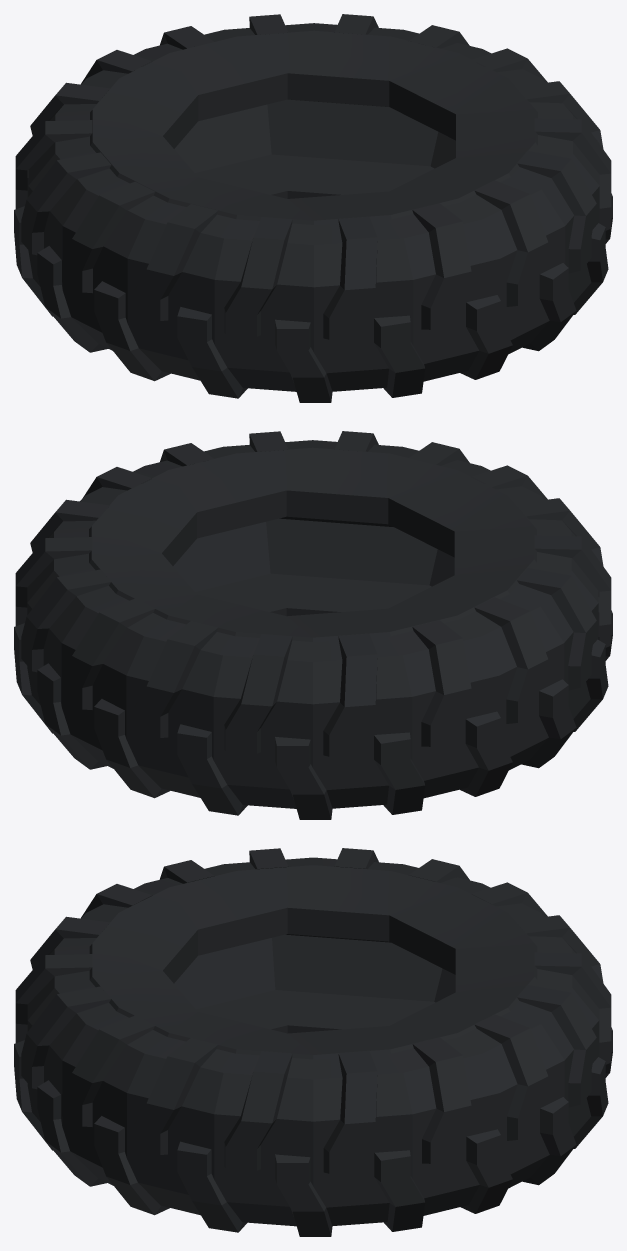
The model's file is SM_Prop_Tractor_Tire_01.obj.
3 renders of one model, top to bottom at view 1: azimuth 30°, elevation 25°; view 2: azimuth 150°, elevation 25°; view 3: azimuth 270°, elevation 25°, orthographic.
Visible parts, largest first — view 1: SM_Prop_Tractor_Tire_01_0; view 2: SM_Prop_Tractor_Tire_01_0; view 3: SM_Prop_Tractor_Tire_01_0.
Boxes of the visible parts, left/top/right/bottom form: SM_Prop_Tractor_Tire_01_0: left=14, top=14, right=612, bottom=402; SM_Prop_Tractor_Tire_01_0: left=14, top=431, right=612, bottom=819; SM_Prop_Tractor_Tire_01_0: left=14, top=848, right=612, bottom=1236.
Bounding box in the file's own units: 1.72 × 0.525 × 1.72.
Materials: 1 (1 with a texture image).
